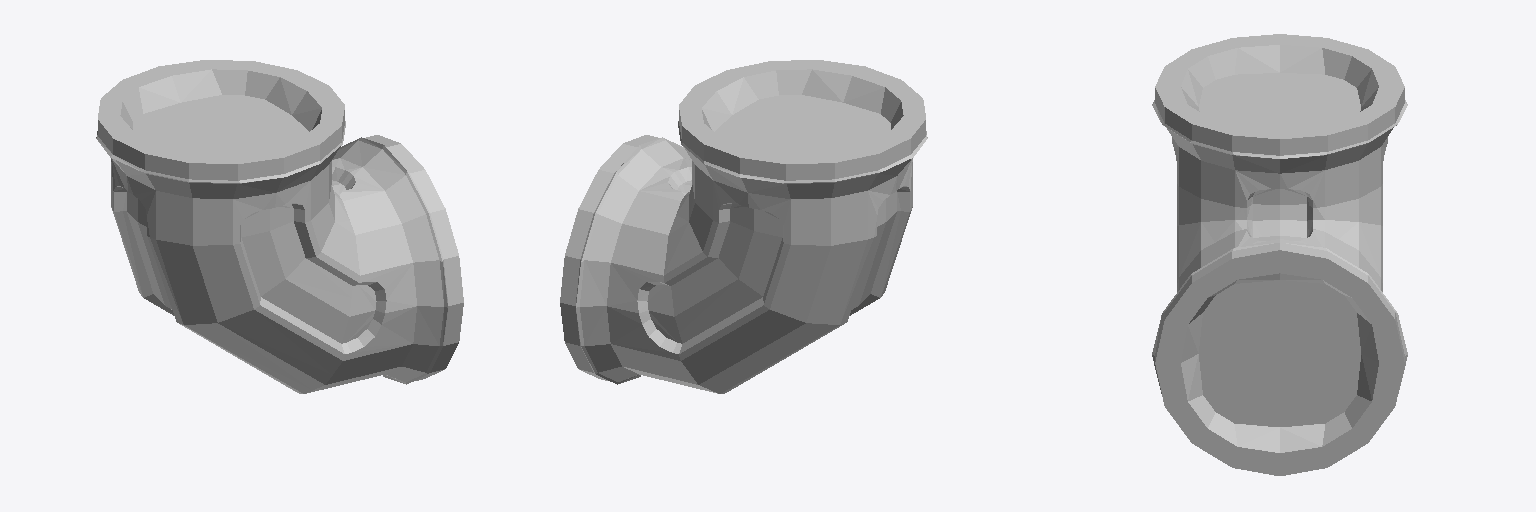
File: Pipe_Elbowyp.obj
3 renders of one model, left to right at view 1: azimuth 30°, elevation 25°; view 2: azimuth 150°, elevation 25°; view 3: azimuth 270°, elevation 25°, orthographic.
Parts seen in each view (by area): view 1: Cylinder; view 2: Cylinder; view 3: Cylinder.
Boxes of the visible parts, box(x1,y1,x2,y2) form: Cylinder: box(96, 60, 463, 393); Cylinder: box(560, 60, 927, 393); Cylinder: box(1152, 34, 1407, 475).
Bounding box in the file's own units: 0.8077 × 0.8078 × 0.6156.